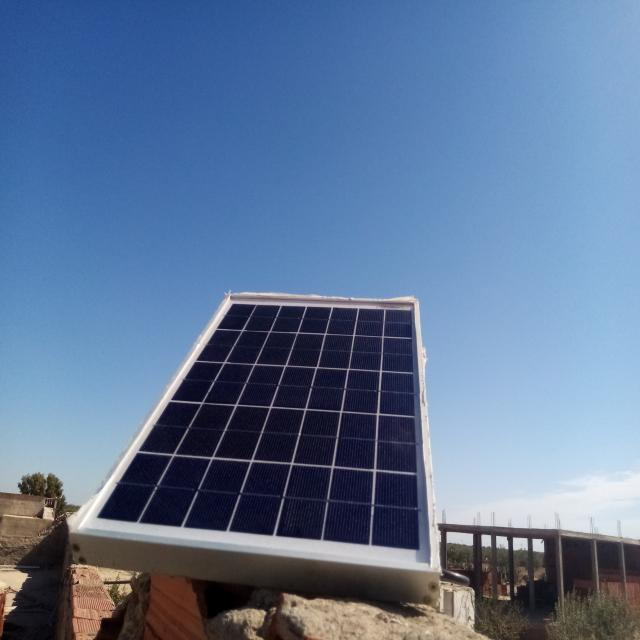no faulty: (69, 291, 437, 578)
